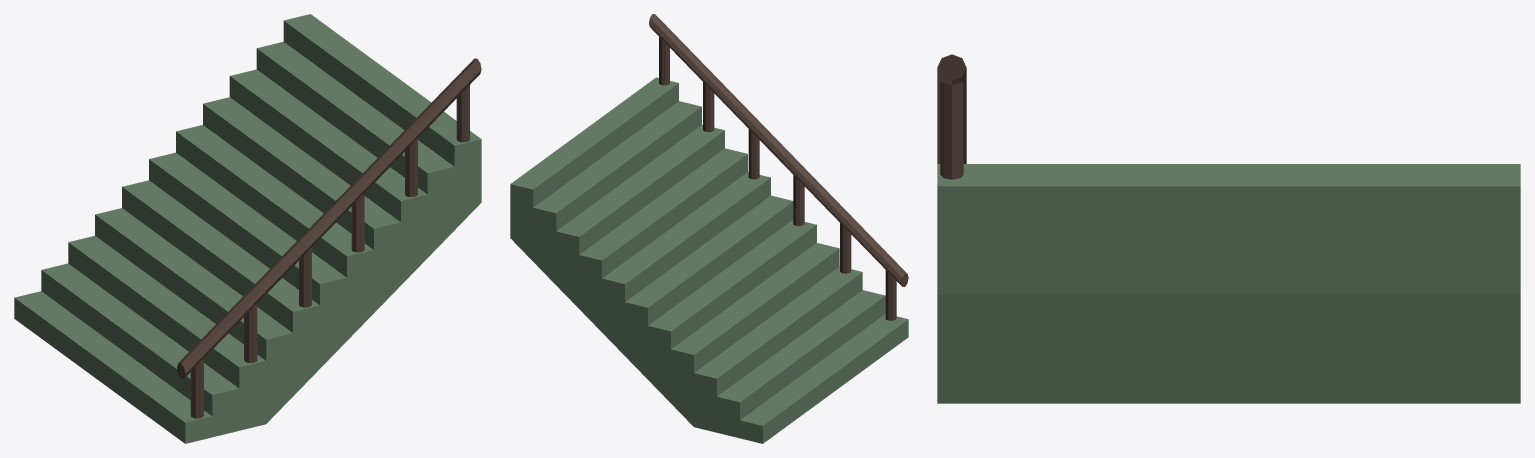
Rendered from stair_case_1.fbx.
3 renders of one model, left to right at view 1: azimuth 30°, elevation 25°; view 2: azimuth 150°, elevation 25°; view 3: azimuth 270°, elevation 25°, orthographic. The views are drawn at different scales.
Parts seen in each view (by area): view 1: Cube.001, Cylinder; view 2: Cube.001, Cylinder; view 3: Cube.001, Cylinder.
Boxes of the visible parts, bbox=[...] form: Cube.001: bbox=[14, 14, 481, 443]; Cylinder: bbox=[177, 58, 481, 418]; Cube.001: bbox=[510, 77, 908, 443]; Cylinder: bbox=[649, 14, 908, 320]; Cube.001: bbox=[937, 164, 1520, 403]; Cylinder: bbox=[937, 54, 966, 179].
Size of the model in its own units: 400 by 400 by 400.
